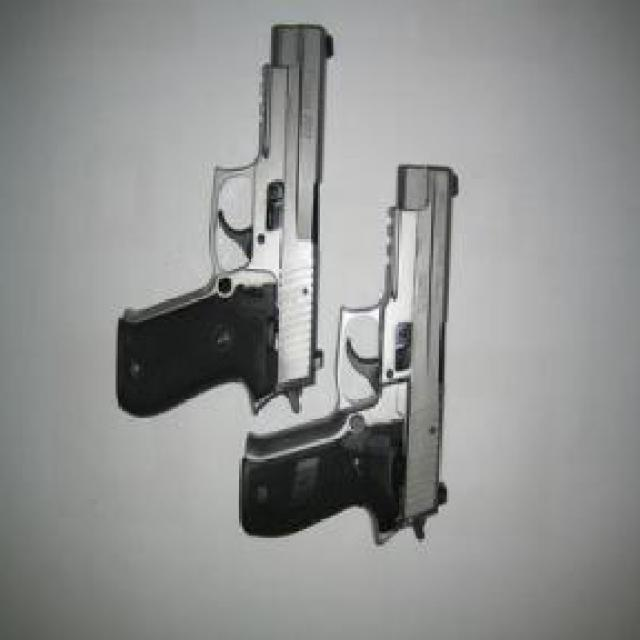pistol: (117, 25, 336, 418), (239, 165, 460, 549)
